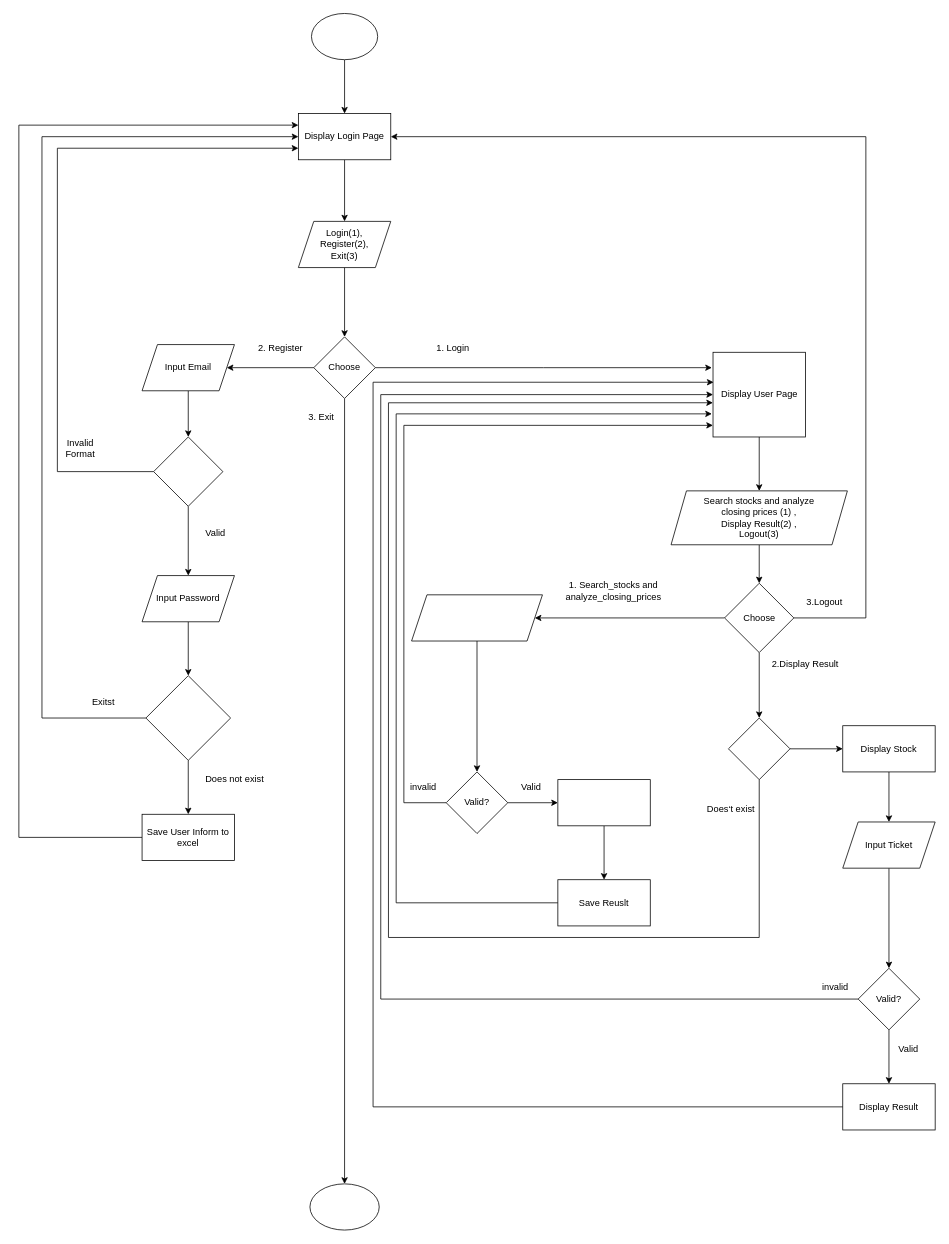
This 949x1244 diagram has some shape labels left out. The centre of each missing label's shape, as x and y in pixels:
Analyze Closing Prices: [603,802]
Check if Email exists: [188,717]
End: [344,1206]
Exist?: [759,748]
Input information about the stock ticket: [476,617]
Start: [344,36]
Valid Email Format: [188,471]
